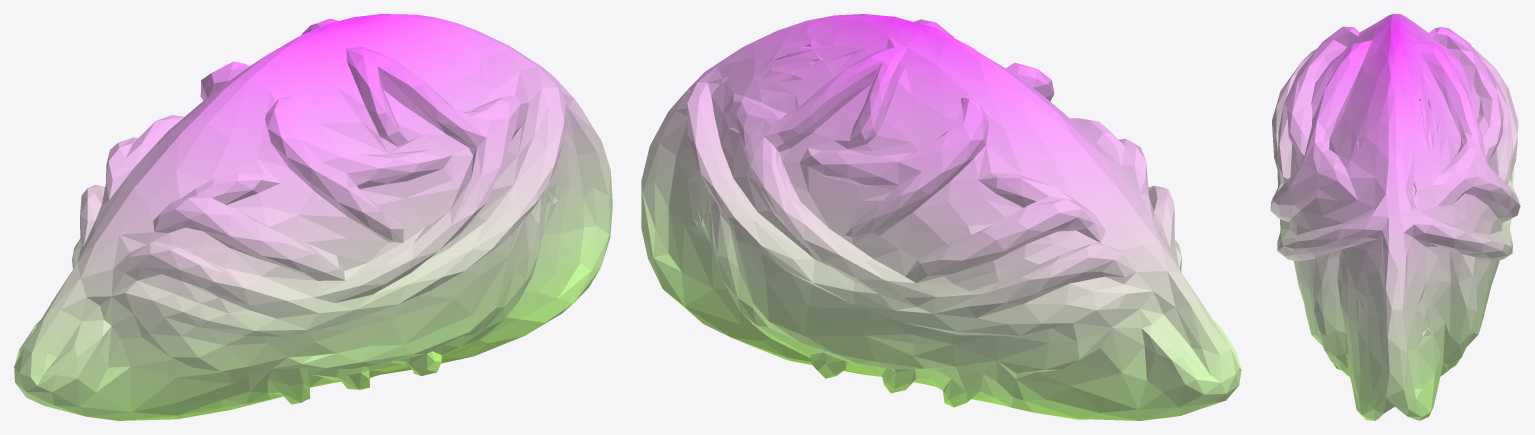
The model's file is 38_cyb_laser_gradient_fish_scales_2904_2026_10_03_82c066.glb.
The picture shows the model from 3 angles, left to right: view 1: azimuth 30°, elevation 25°; view 2: azimuth 150°, elevation 25°; view 3: azimuth 270°, elevation 25°; orthographic projection. The views are drawn at different scales.
Visible parts, largest first — view 1: geometry_0; view 2: geometry_0; view 3: geometry_0.
Boxes of the visible parts, x1,y1,x2,y2 form: geometry_0: (14, 14, 612, 420); geometry_0: (641, 14, 1241, 420); geometry_0: (1270, 14, 1520, 420).
Bounding box in the file's own units: 1 × 0.5754 × 0.4029.
